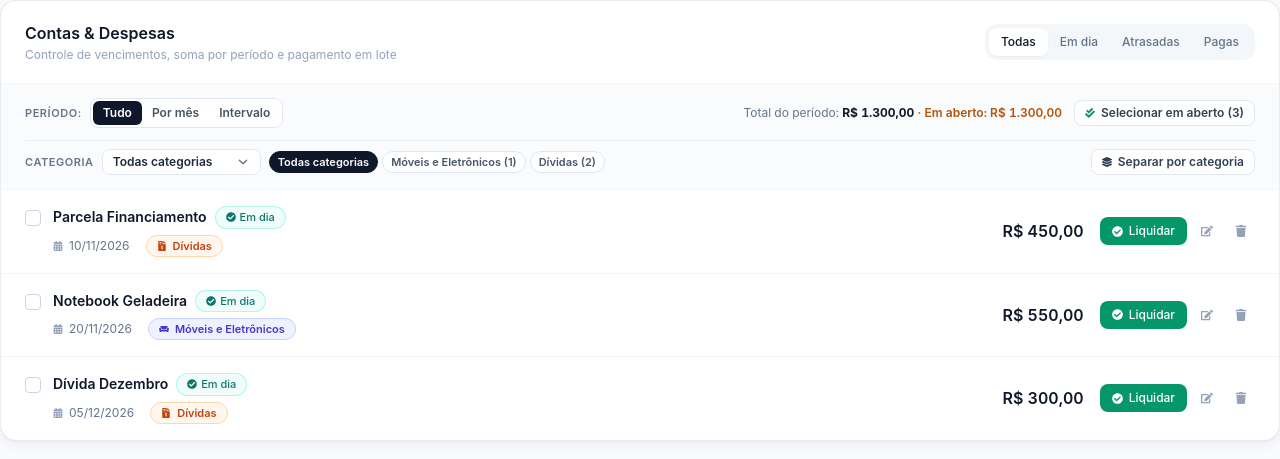
Test: ExpensesListSection batch calculation and period filtering › filters expenses by month period and computes period total cleanly
Click the button "Por mês".
click(176, 113)  # box [142,101,209,125]
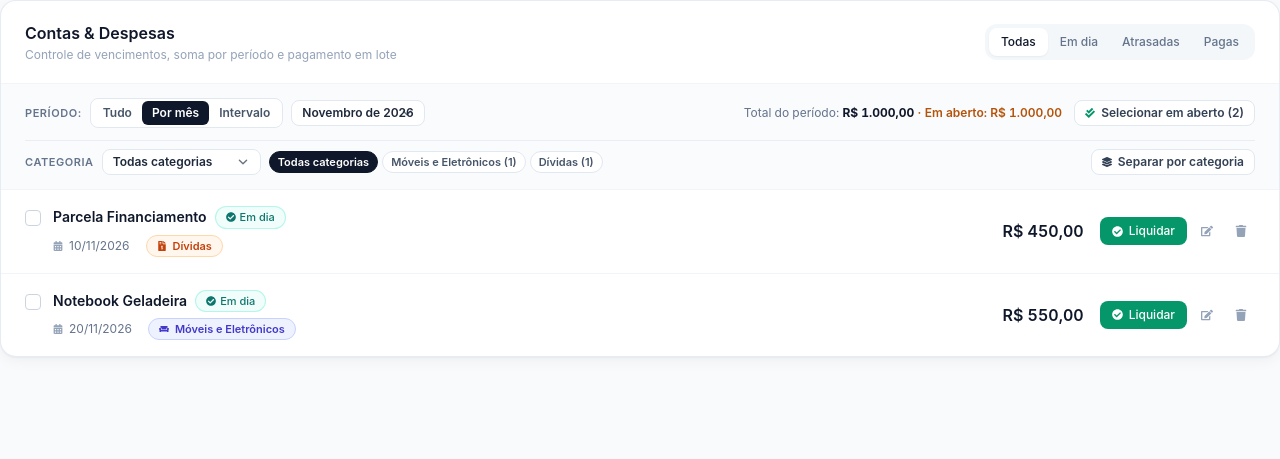
Select "Dezembro de 2026" in the dropdown named "Selecionar mês do período" at (358, 113), box [291,100,425,126]
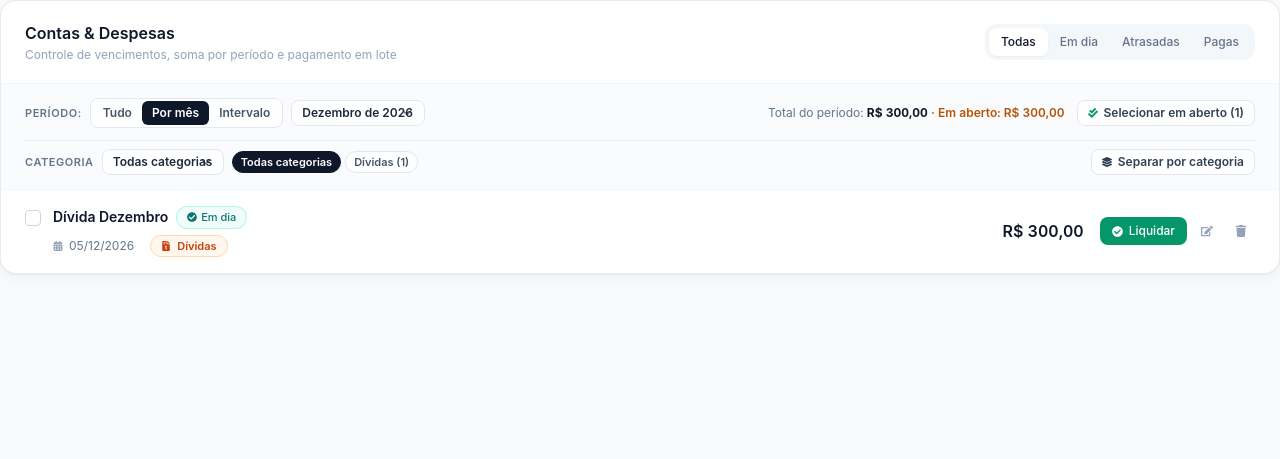
Expected: the heading "Dívida Dezembro" is shown, [53,207,168,227]
Expected: the heading "Parcela Financiamento" is gone
Expected: the button "Selecionar em aberto (1)" is shown, [1076,100,1255,126]
